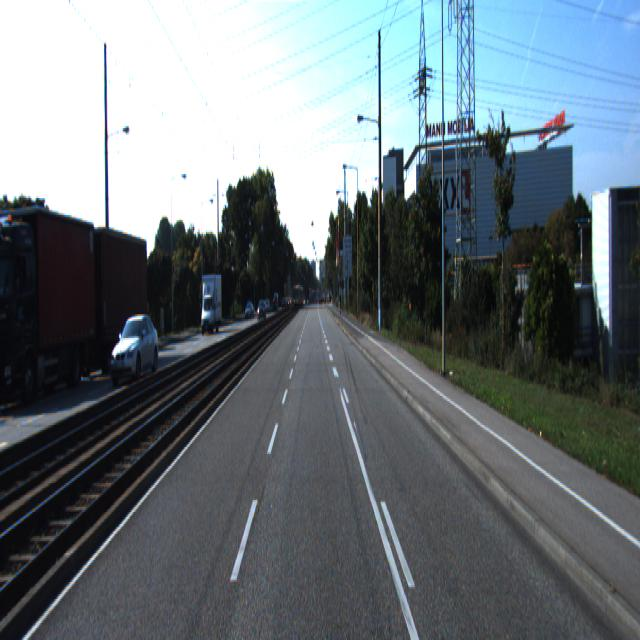Car: (0, 198, 100, 418), (74, 227, 150, 382), (108, 313, 162, 388), (198, 274, 222, 337)
